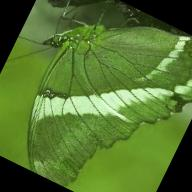butterfly: (27, 24, 192, 186)
